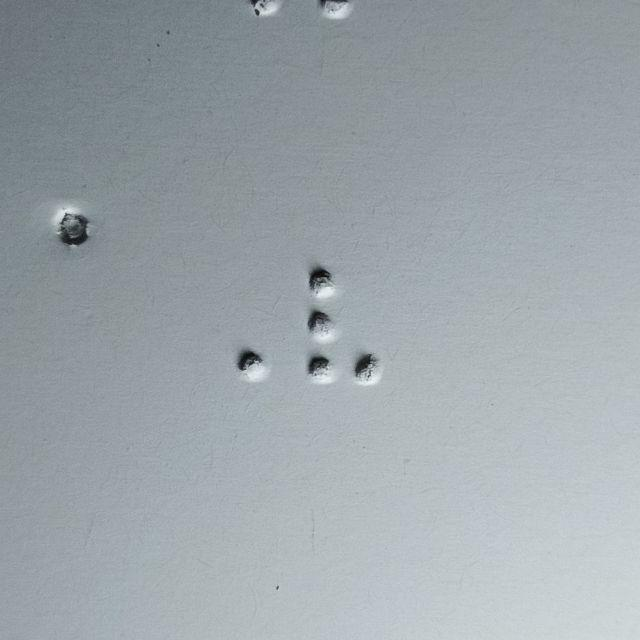V: (305, 260, 384, 387)
capital: (191, 266, 273, 387)
